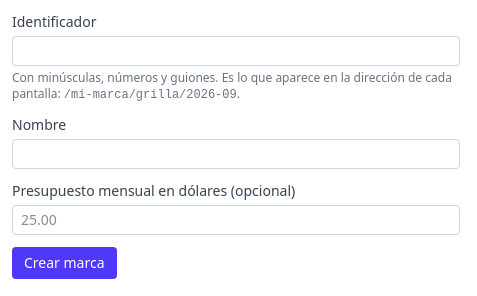
Scenario: FormularioDeMarca › el botón sigue deshabilitado mientras navega
In the field labelled "Identificador": (236, 51) left=12, top=36, right=460, bottom=66, type "tercera"
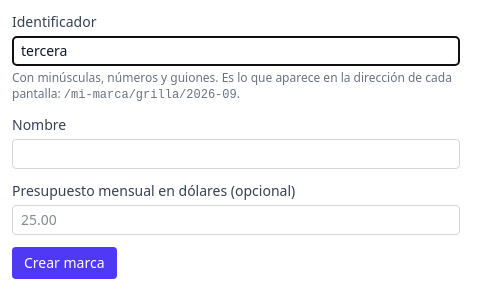
In the field labelled "Nombre": (236, 154) left=12, top=139, right=460, bottom=169, type "La Tercera"
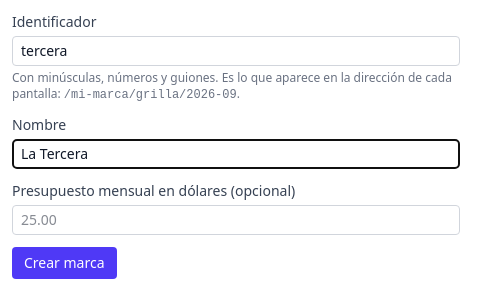
Click the button "Crear marca": (64, 263) left=12, top=247, right=116, bottom=279
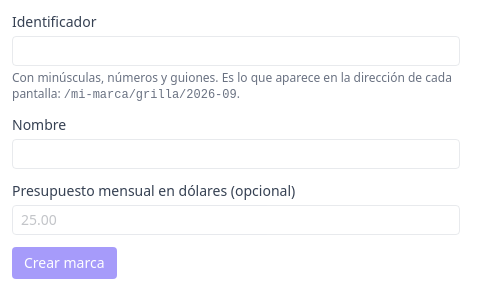
expect the button "Crear marca" is disabled: met, box left=12, top=247, right=116, bottom=279
